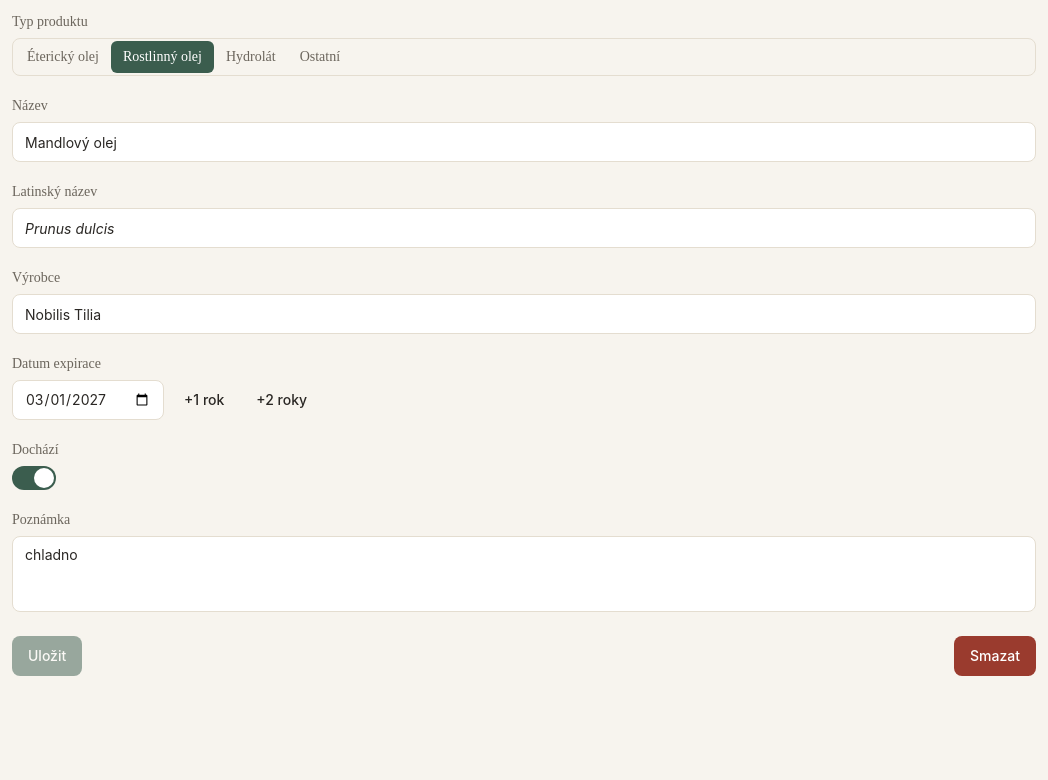
Scenario: OilForm › keeps "Uložit" disabled in edit mode until something changes
expect the button "Uložit" is disabled: met, box [12,636,82,676]
Type "x" into the field labelled "Název" at (524, 142), box [12,122,1036,162]
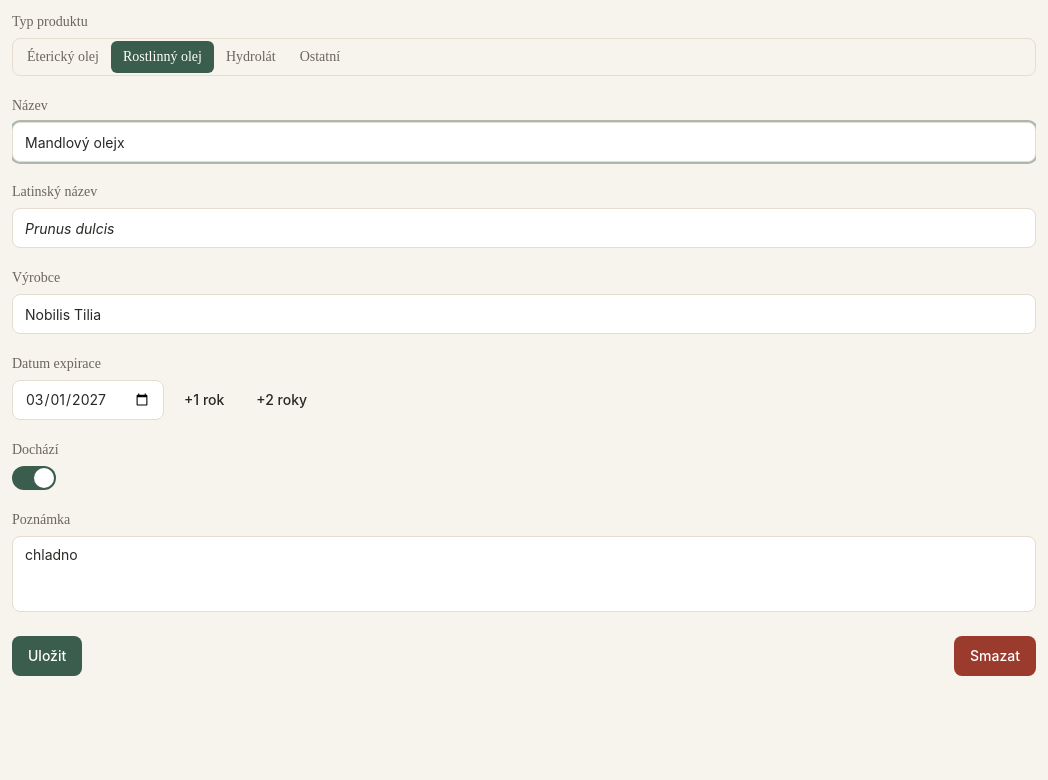
expect the button "Uložit" is enabled: met, box [12,636,82,676]
